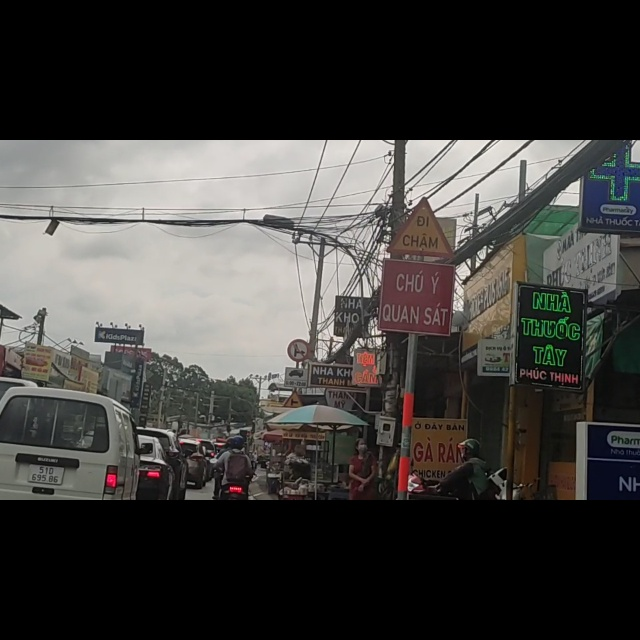bien_cam: (385, 98, 461, 213), (285, 353, 310, 396), (283, 444, 307, 482), (285, 404, 307, 442)
